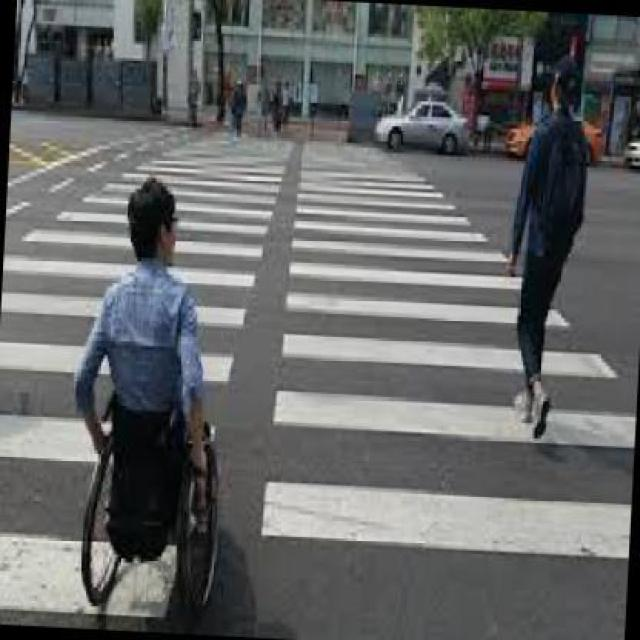Person: (69, 177, 237, 605), (499, 55, 592, 439)
